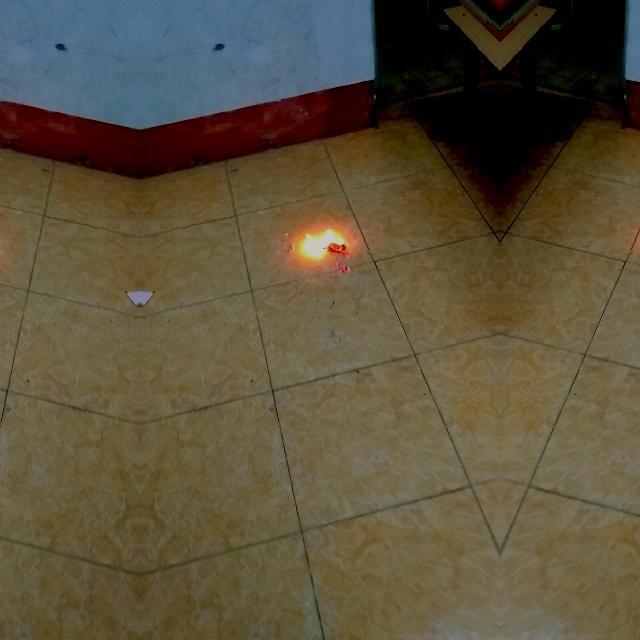smoke: (298, 228, 346, 260)
